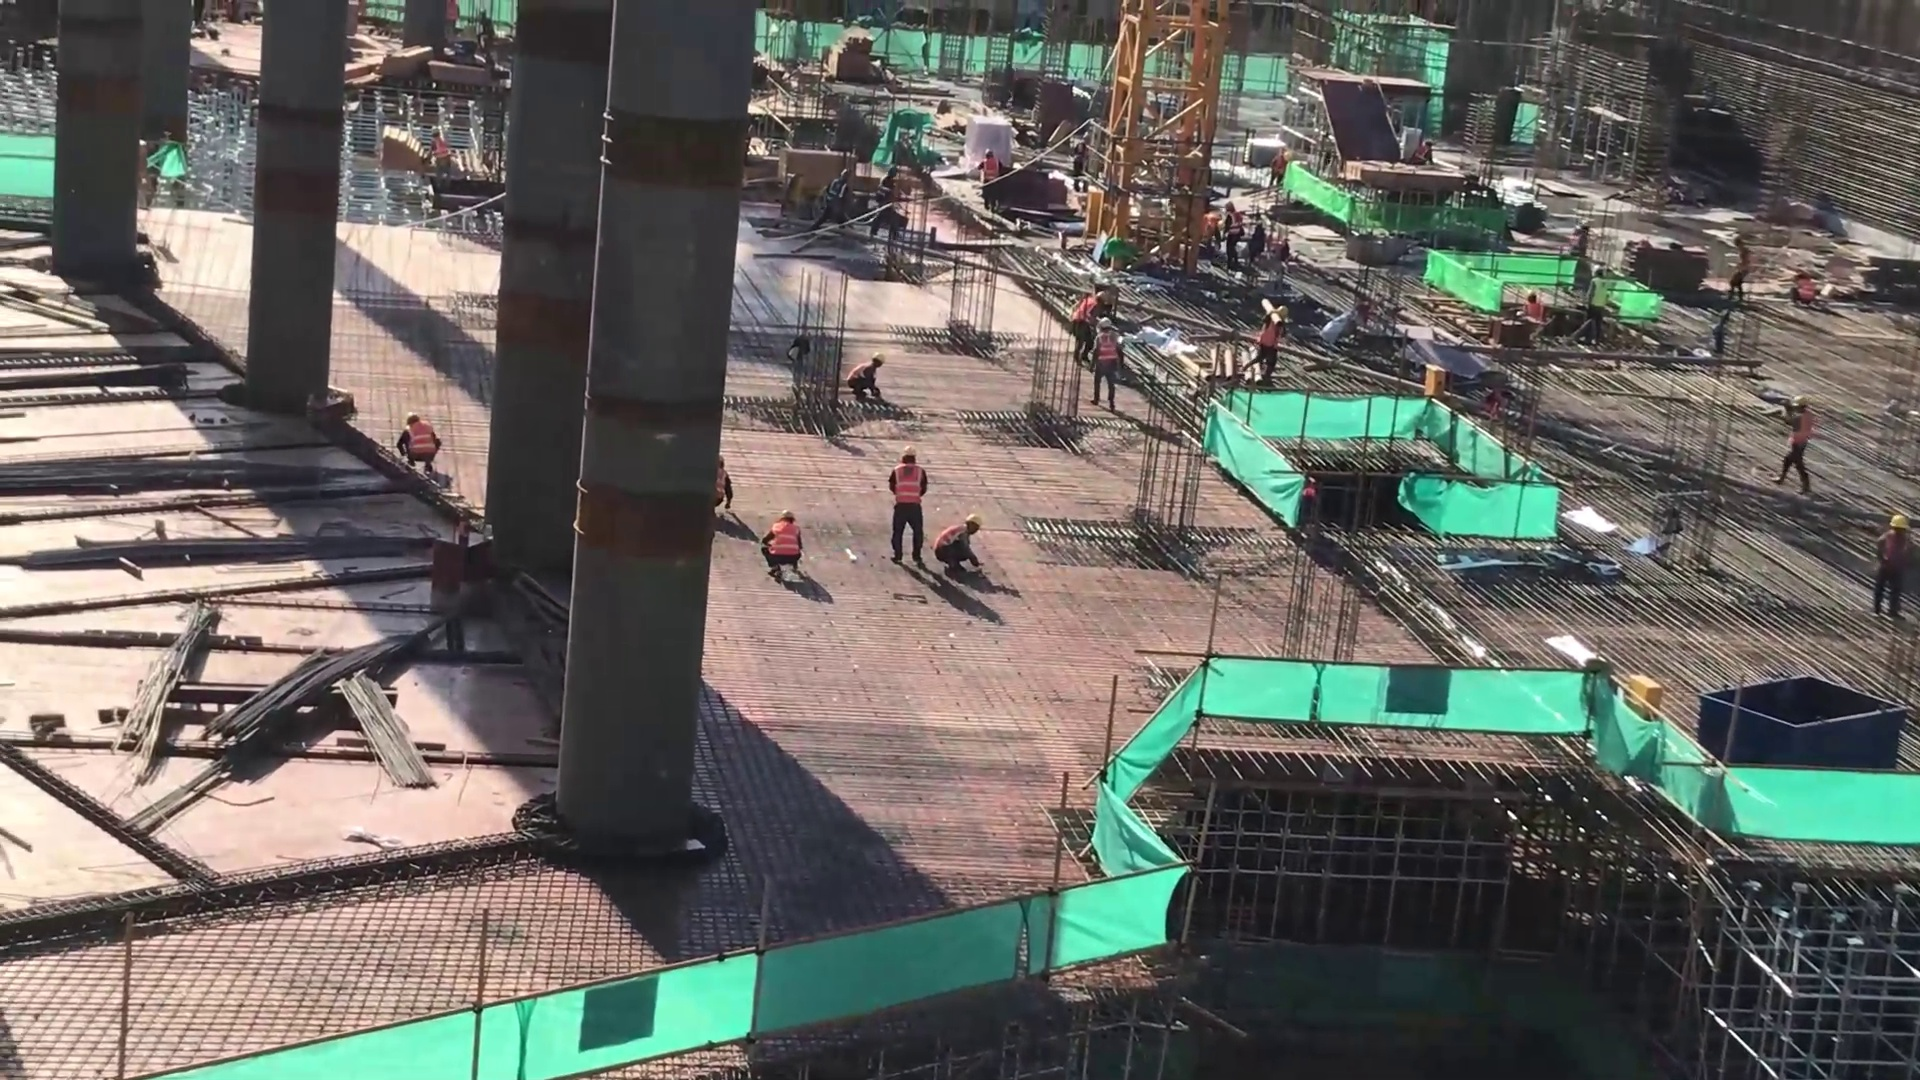helmet: (1887, 512, 1910, 530), (776, 508, 795, 521), (964, 511, 980, 527), (1097, 318, 1114, 330), (1793, 395, 1812, 406), (1094, 290, 1109, 303), (902, 444, 918, 456), (405, 411, 419, 423), (1274, 306, 1289, 318), (1590, 266, 1604, 276), (873, 353, 884, 364), (1526, 290, 1537, 297), (430, 126, 438, 134)
hopper: (1701, 674, 1906, 784)
person: (875, 435, 929, 581), (1867, 506, 1920, 616), (1770, 391, 1824, 493), (1251, 299, 1292, 388), (940, 507, 989, 580), (758, 508, 808, 579), (1068, 285, 1109, 369), (1086, 315, 1124, 407), (1573, 264, 1613, 350), (819, 160, 856, 245), (1723, 234, 1761, 316), (1506, 280, 1543, 357), (1779, 253, 1825, 314), (392, 412, 436, 472), (1213, 192, 1244, 273), (871, 160, 904, 230), (850, 345, 886, 404), (419, 124, 456, 180), (971, 145, 1002, 208), (1266, 143, 1294, 197), (1401, 130, 1439, 168), (716, 454, 731, 519)
rebar: (233, 627, 423, 737), (333, 667, 436, 804), (144, 601, 197, 774)
vest: (935, 522, 966, 560), (1785, 412, 1813, 448), (896, 468, 924, 500), (773, 525, 801, 554), (1096, 336, 1118, 370), (407, 426, 433, 456)
